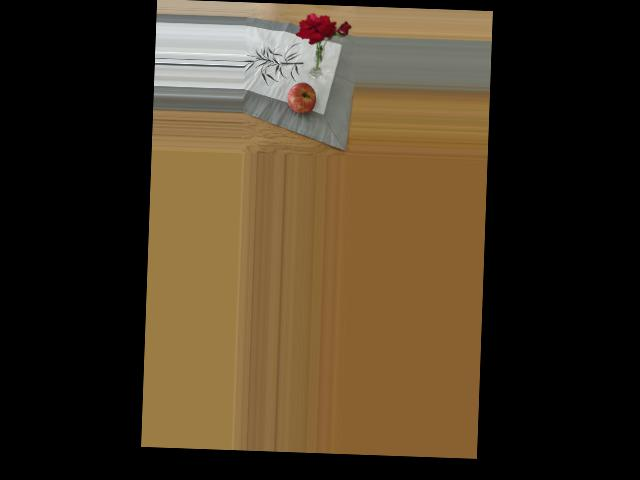apple: (286, 80, 320, 117)
